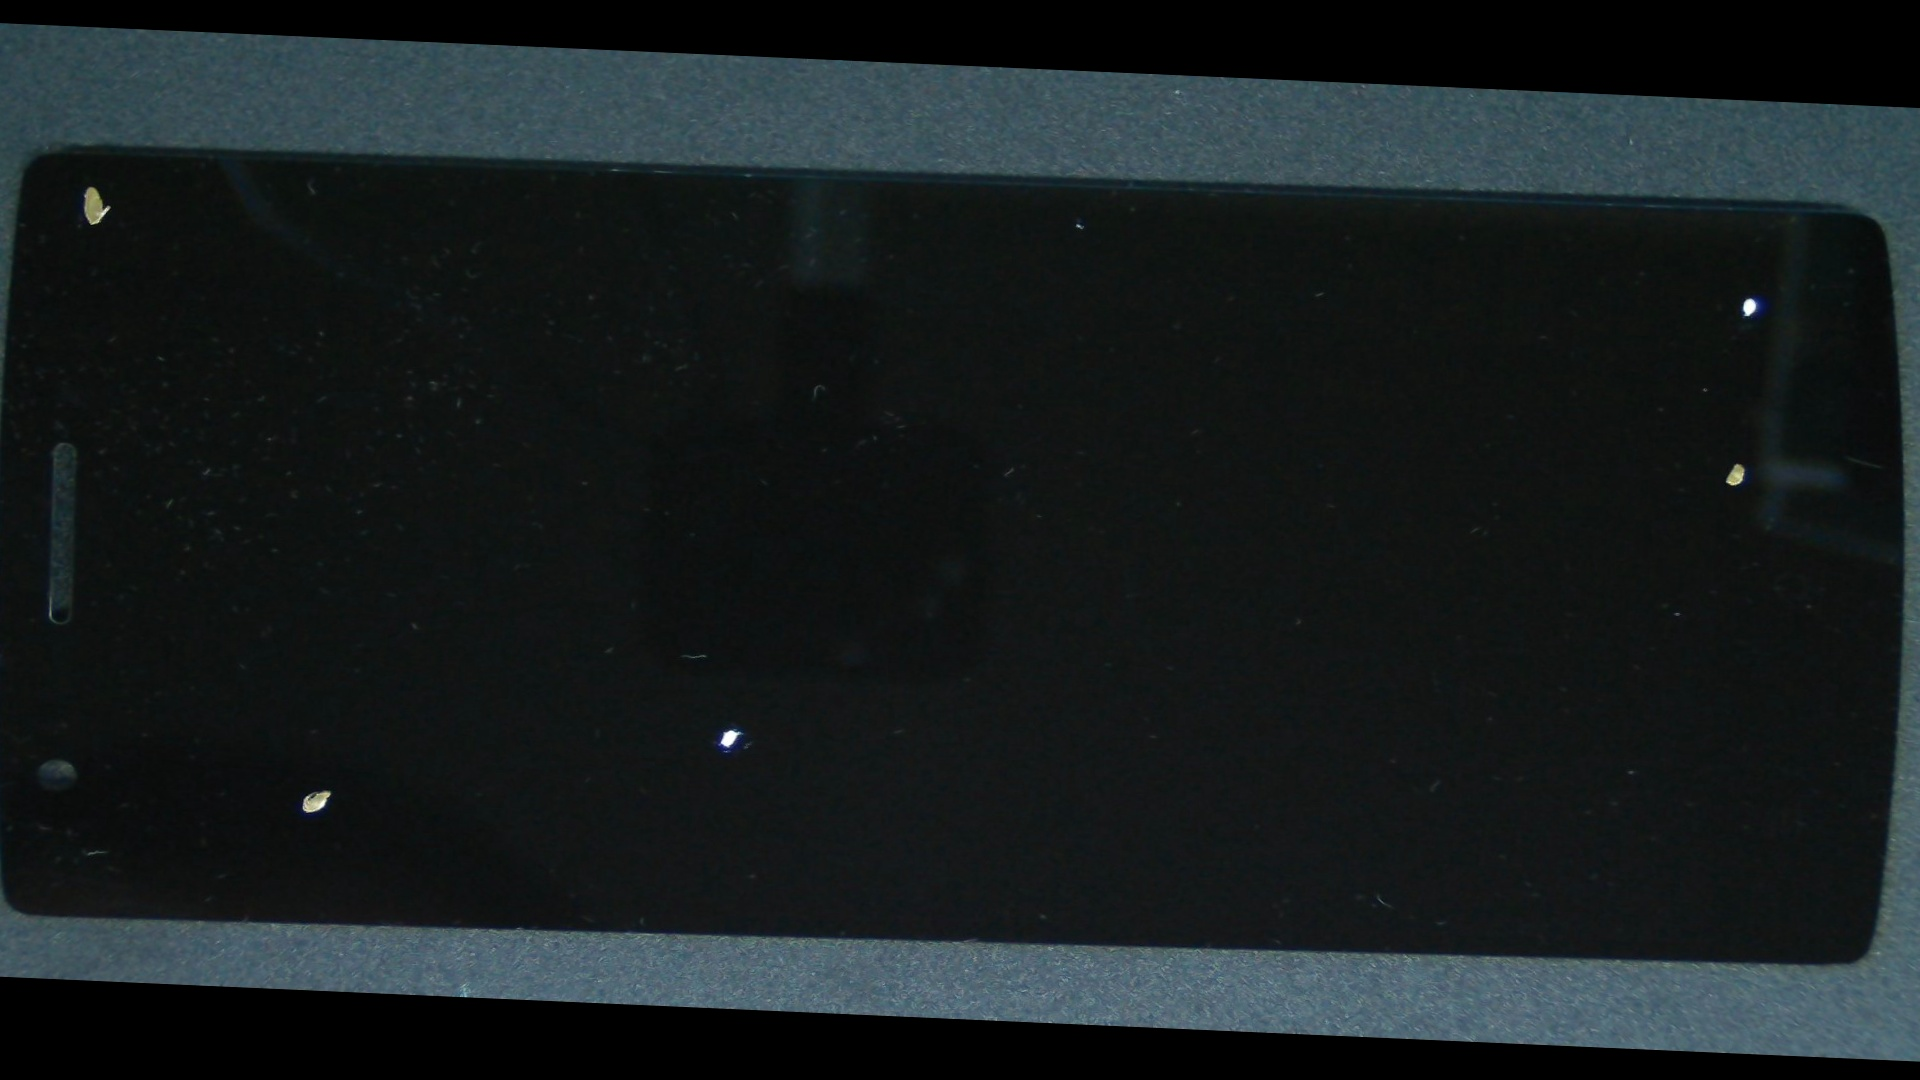oil: (297, 380, 1208, 1029), (289, 373, 1185, 1029), (800, 240, 1920, 654), (84, 404, 568, 1001), (814, 157, 1920, 407), (0, 102, 191, 269)
